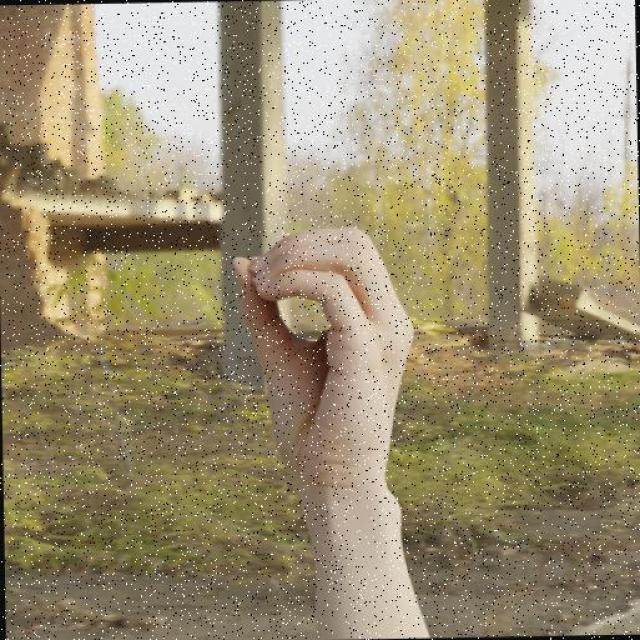O: (232, 214, 427, 516)
